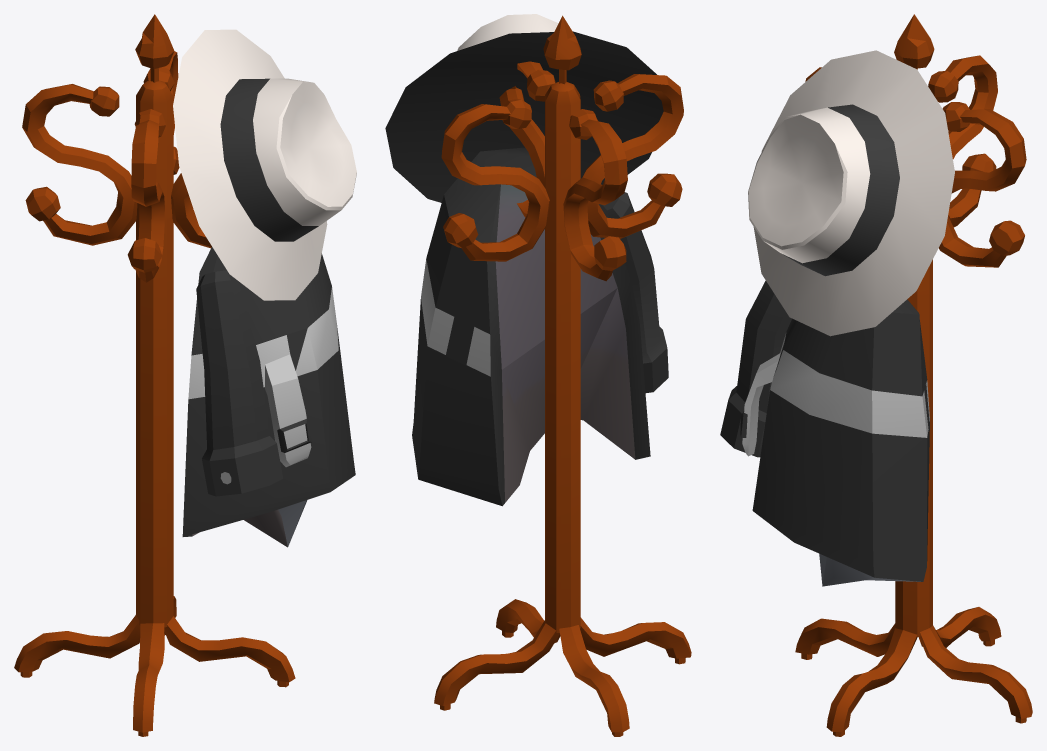
The model's file is office_coat.fbx.
3 views of the same model, side by side, from view 1: azimuth 30°, elevation 25°; view 2: azimuth 150°, elevation 25°; view 3: azimuth 270°, elevation 25° (orthographic).
Parts seen in each view (by area): view 1: coat; view 2: coat; view 3: coat.
Boxes of the visible parts, x1,y1,x2,y2 form: coat: [14, 14, 356, 736]; coat: [385, 14, 691, 736]; coat: [720, 14, 1032, 736].
Size of the model in its own units: 0.8534 by 2.01 by 0.8412.
